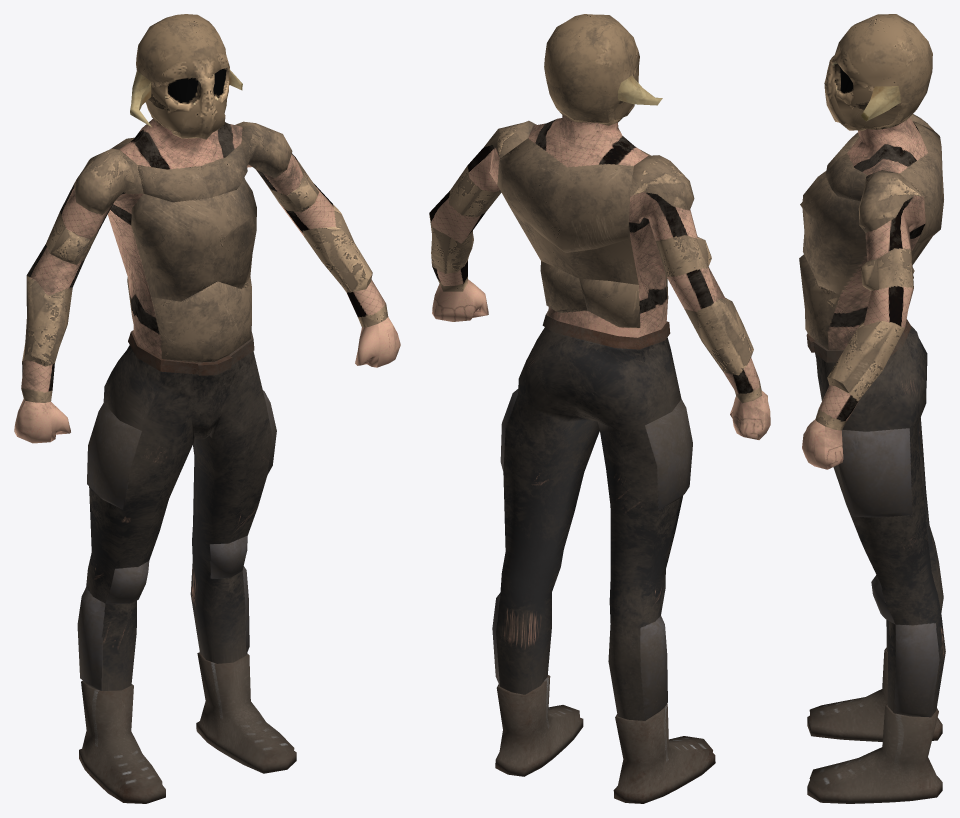
File: Anim_idle_npc1.0021.obj
3 renders of one model, left to right at view 1: azimuth 30°, elevation 25°; view 2: azimuth 150°, elevation 25°; view 3: azimuth 270°, elevation 25°, orthographic.
Visible parts, largest first — view 1: NPC2; view 2: NPC2; view 3: NPC2.
Boxes of the visible parts, left/top/right/bottom form: NPC2: left=14, top=14, right=400, bottom=803; NPC2: left=429, top=14, right=770, bottom=803; NPC2: left=799, top=14, right=945, bottom=803.
Size of the model in its own units: 4.85 by 9.68 by 1.72.
